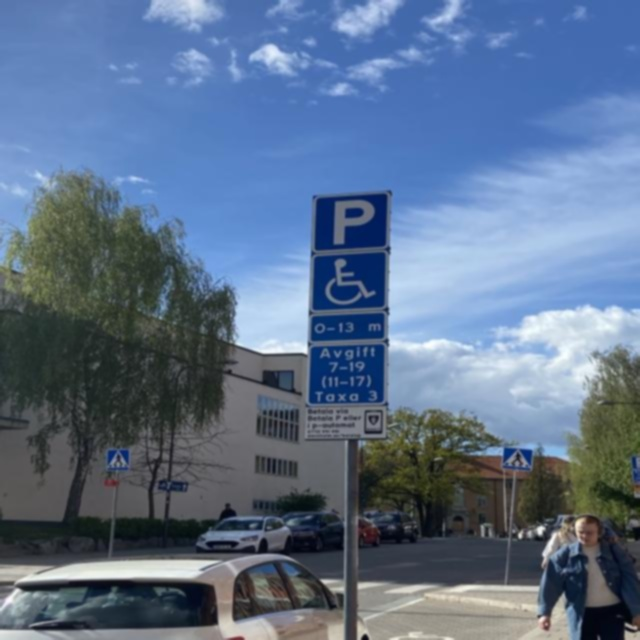P-skylt: (311, 193, 388, 250)
